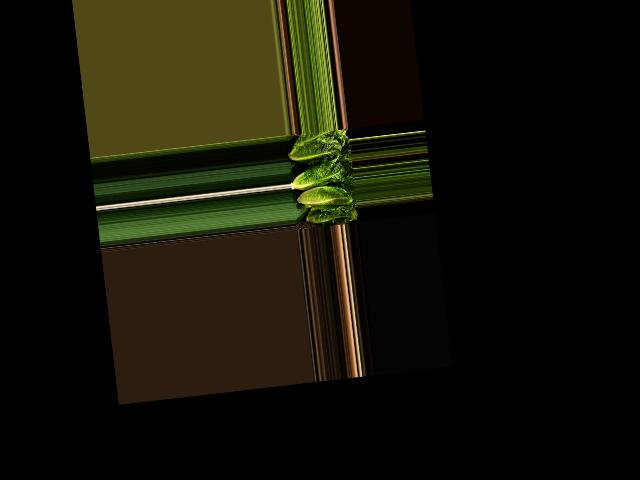lettuce: (306, 203, 358, 224)
